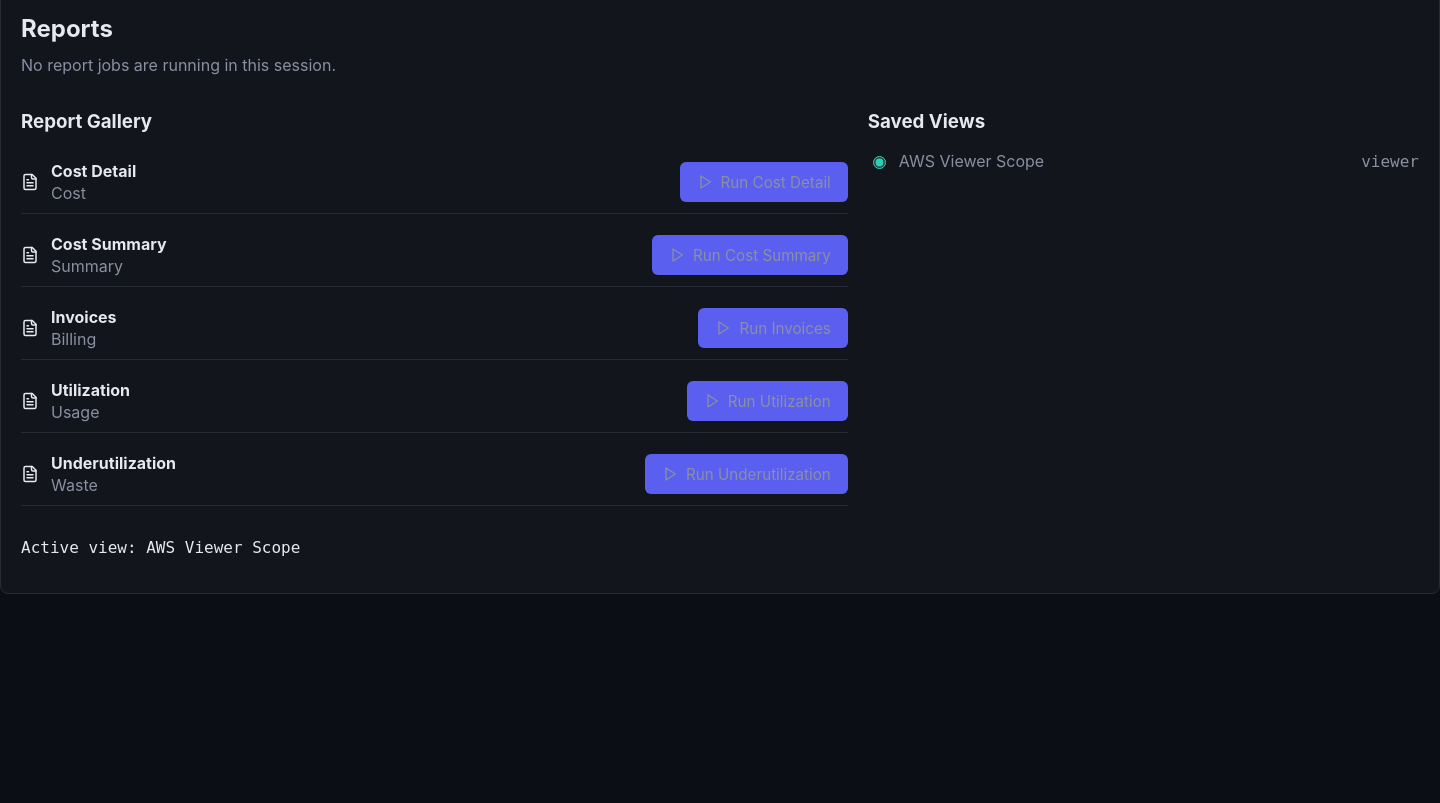
Test case: ReportingConsole › renders canned reports, active shared views, and scoped report results
The image size is (1440, 803).
Check: the text "Cost Detail" is shown, box [51,161,136,181]
Check: the text "Cost Summary" is shown, box [51,234,167,254]
Click the button "Run Cost Detail" at (764, 182), box [680,162,848,202]
(page scrolled)
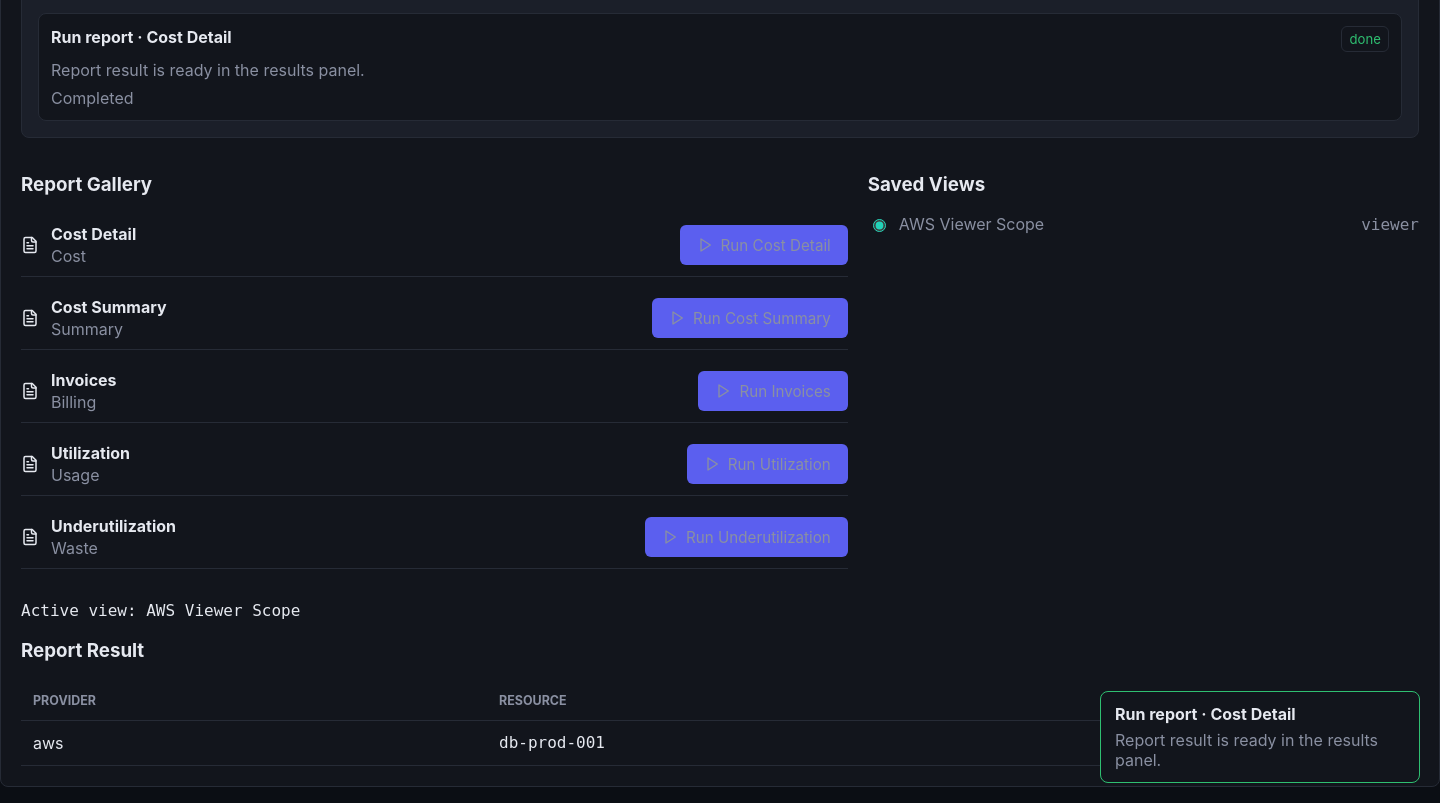
Check: the text "db-prod-001" is shown, box [487,720,953,765]
